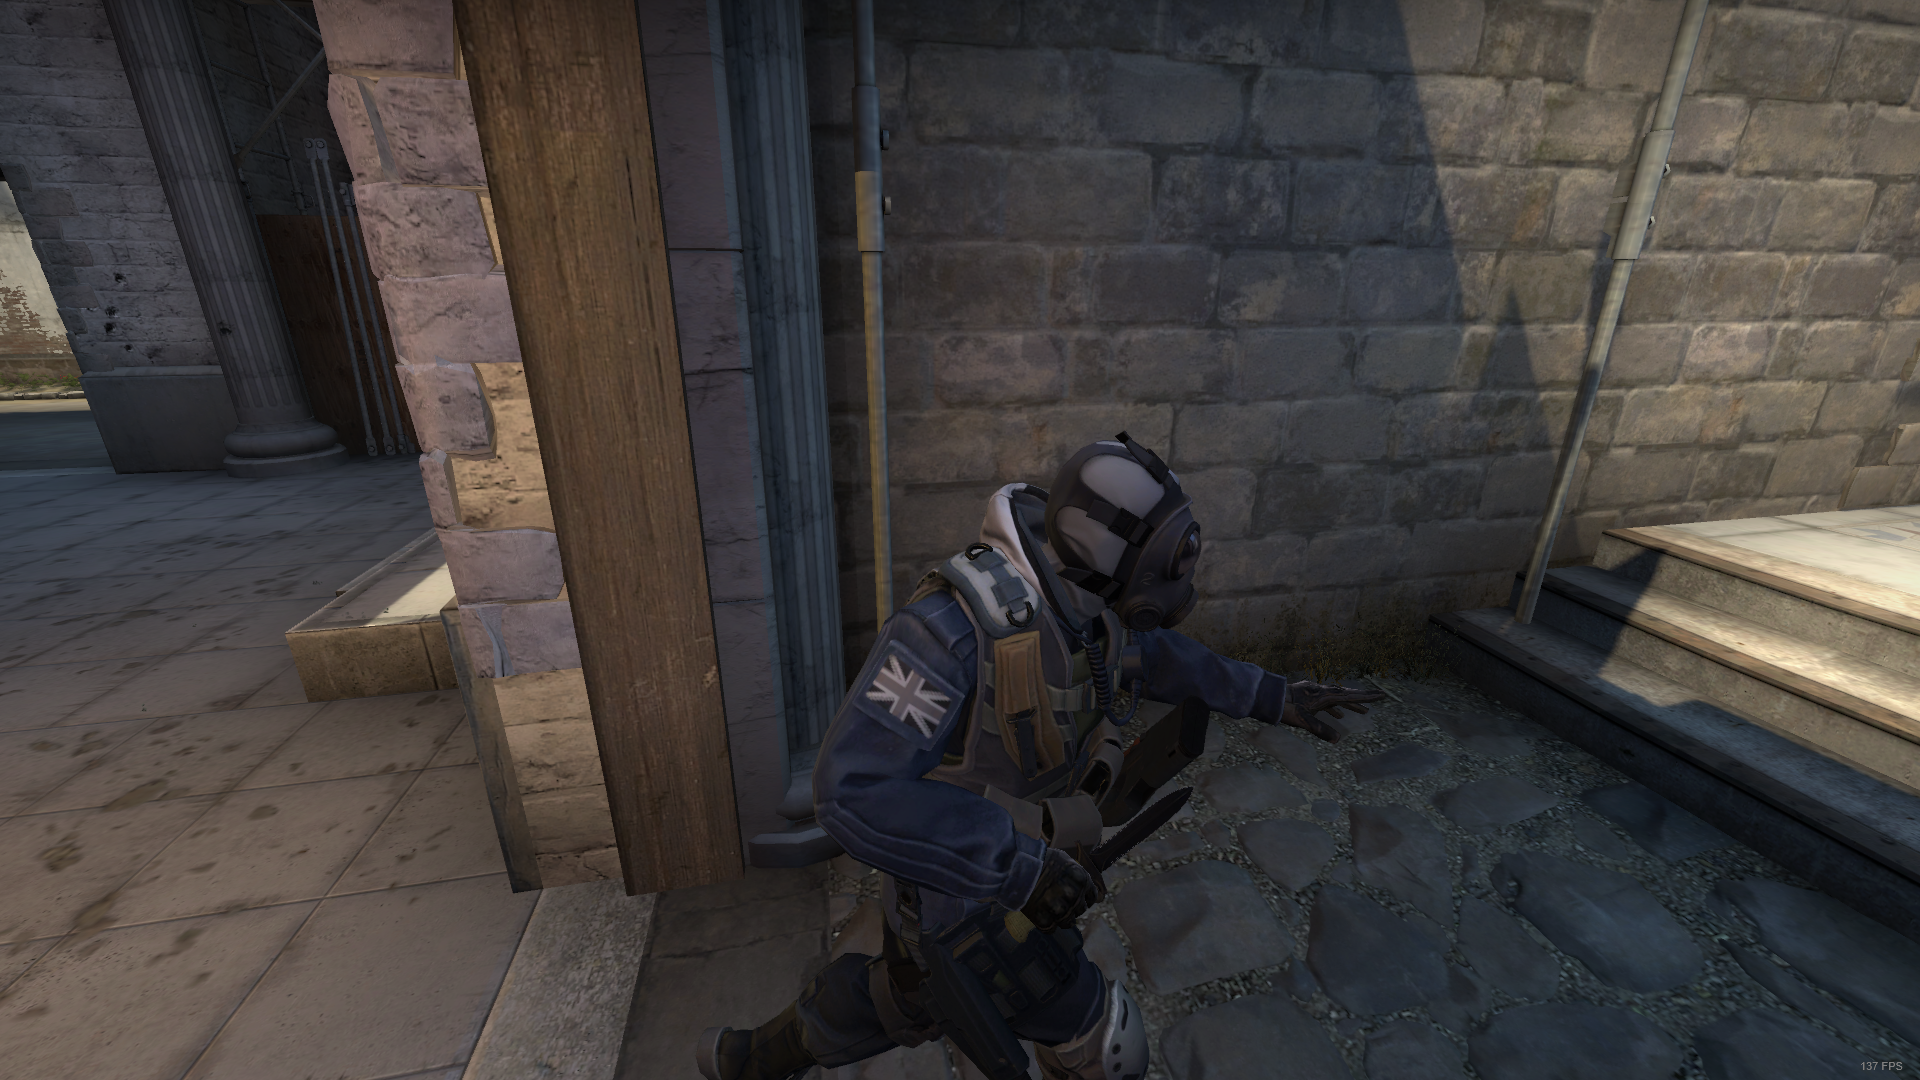ct: (687, 425, 1390, 1080)
